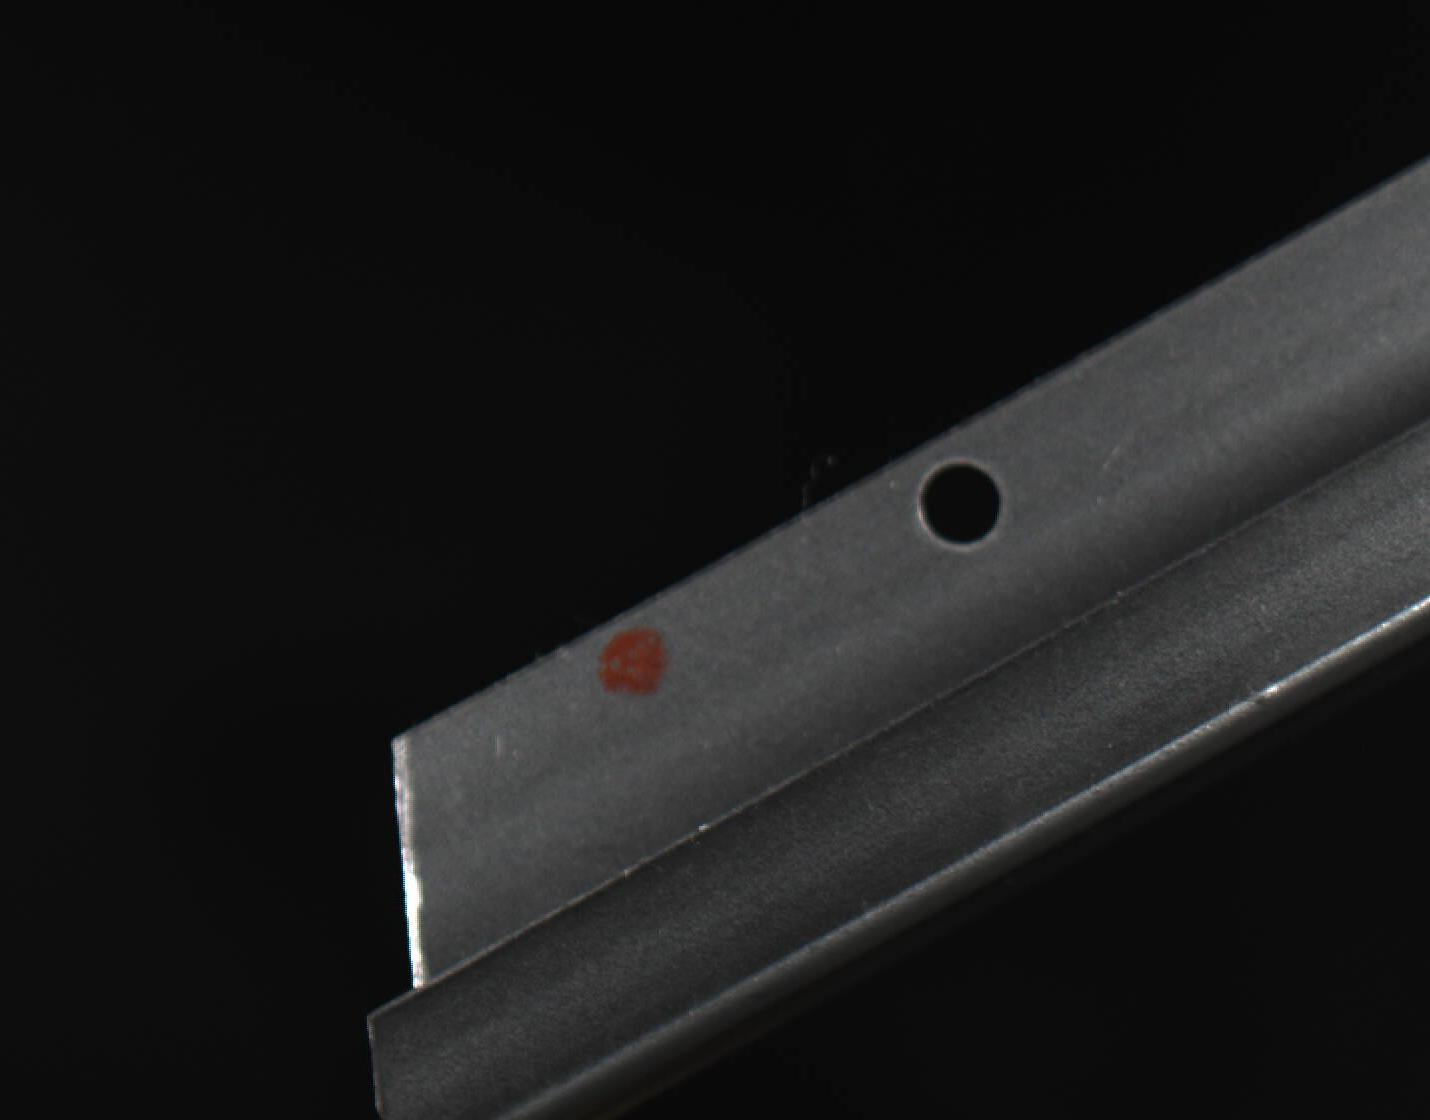cut: (306, 673, 811, 1117)
holes: (916, 457, 1006, 549)
